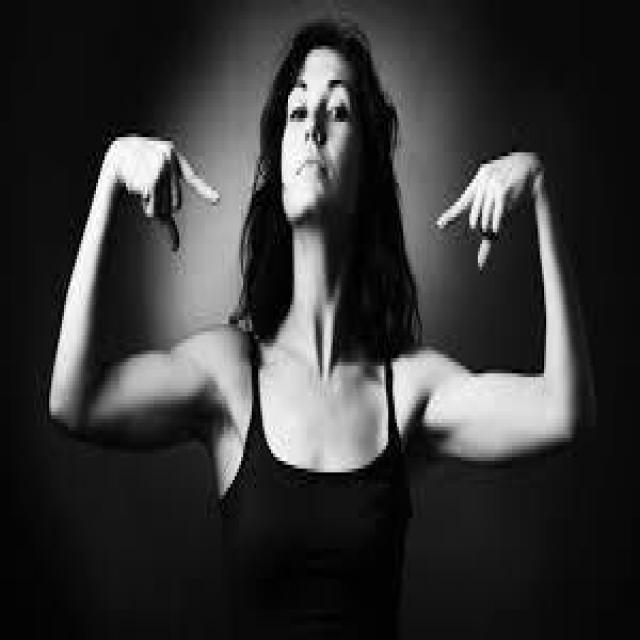person: (70, 11, 604, 579)
